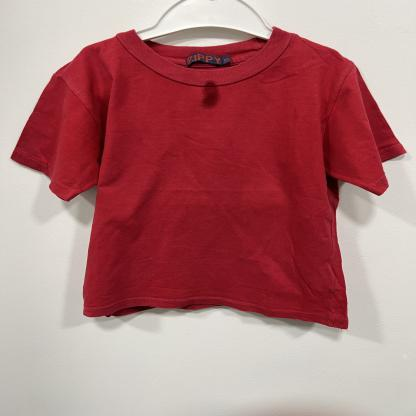stain: (196, 77, 222, 113)
